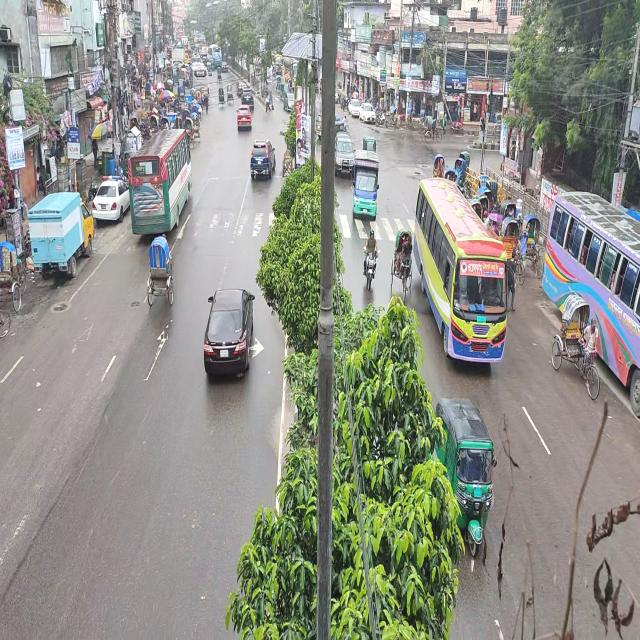black: (205, 290, 254, 380), (334, 130, 357, 178)
blue: (250, 141, 276, 180)
white: (89, 170, 133, 223), (358, 103, 376, 124)
